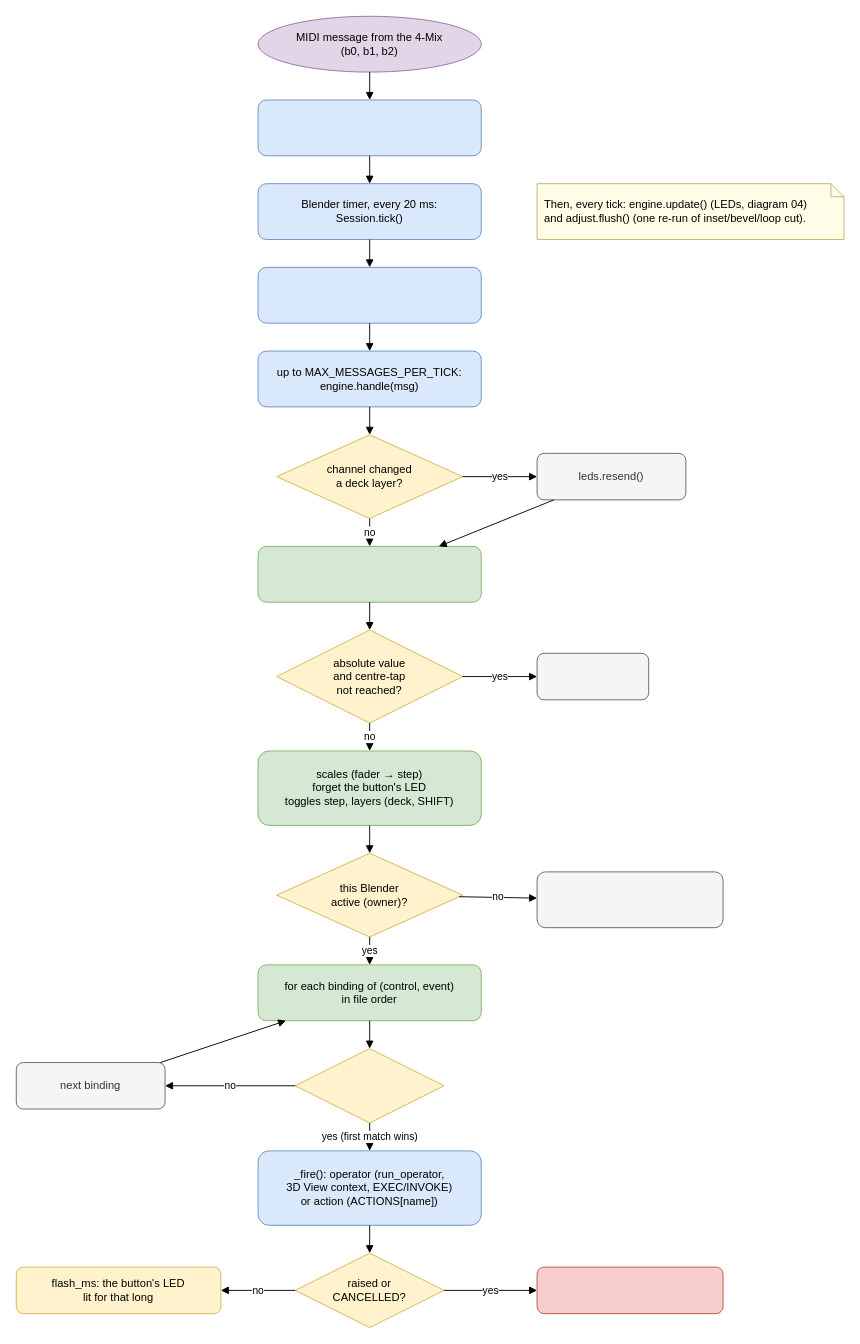
Image size: 860x1344. Some labels were removed from this diagram. Each missing label, with the box of its shape:
engine.last_error (shown in the panel): (536, 1266, 723, 1314)
engine.set_active(owner_is_me()) focused Blender owns the controller: (257, 266, 481, 323)
ignore: (536, 652, 649, 700)
profile.decode() → (control id, event): (257, 545, 481, 602)
standby: follow layers/ scales only, run nothing: (536, 871, 723, 928)
when matches?: (294, 1048, 444, 1123)
WinMM callback thread: queue.put(msg) (no bpy here): (257, 99, 481, 156)
